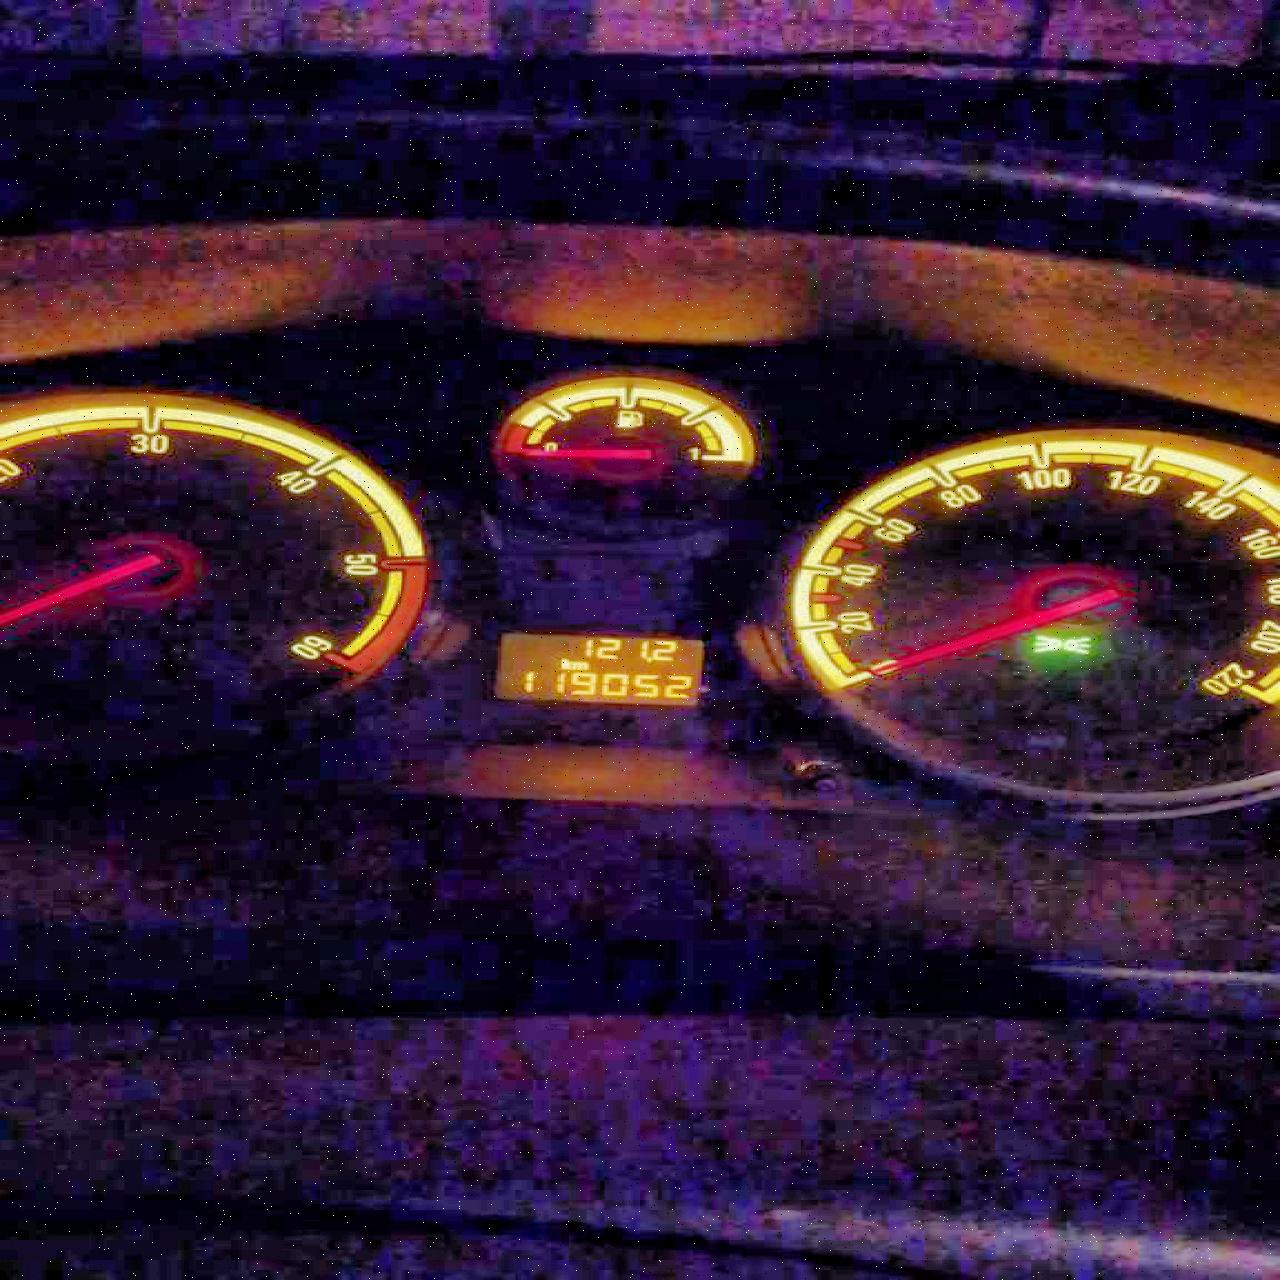-: (642, 655, 651, 661)
0: (598, 672, 626, 696)
1: (517, 667, 536, 693), (549, 670, 564, 694), (633, 638, 647, 659), (580, 636, 593, 658)
2: (662, 673, 692, 699), (595, 638, 622, 659), (652, 639, 678, 660)
5: (629, 673, 658, 696)
9: (566, 670, 595, 695)
X: (568, 660, 587, 670), (558, 656, 568, 669)
odometer: (489, 631, 707, 708)
